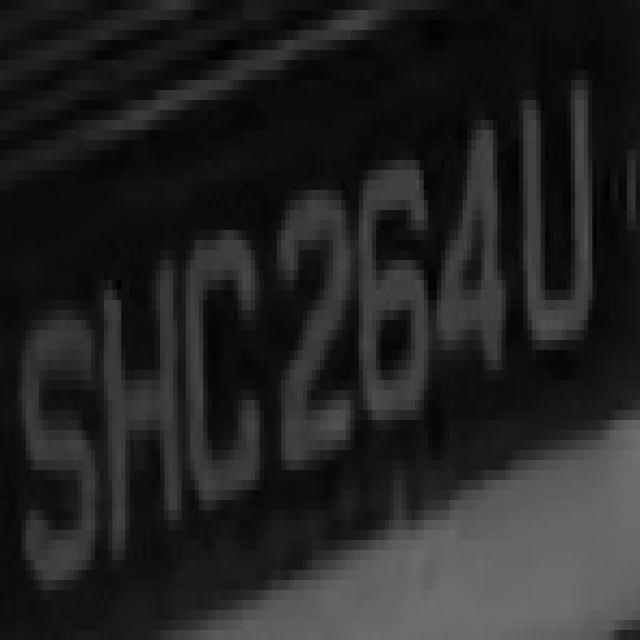2: (277, 170, 359, 510)
4: (428, 120, 510, 450)
6: (338, 120, 432, 480)
C: (173, 190, 268, 560)
H: (86, 240, 190, 590)
S: (9, 270, 100, 610)
U: (502, 70, 601, 400)
